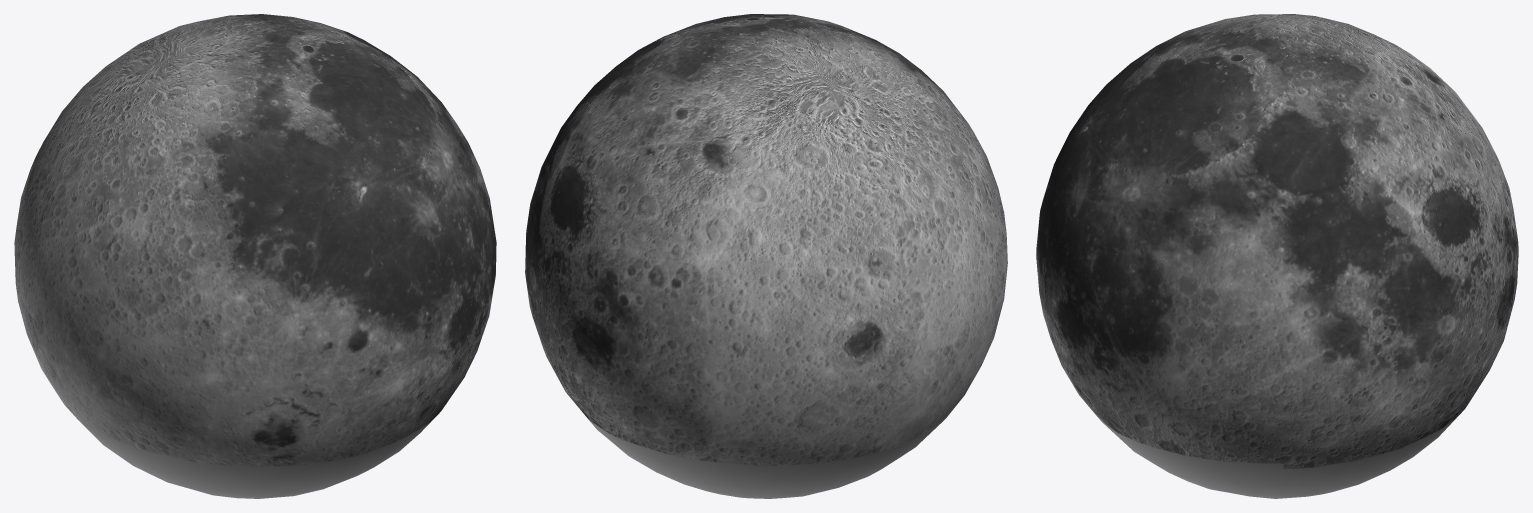
File: Moon.glb
3 views of the same model, side by side, from view 1: azimuth 30°, elevation 25°; view 2: azimuth 150°, elevation 25°; view 3: azimuth 270°, elevation 25° (orthographic).
Visible parts, largest first — view 1: Moon; view 2: Moon; view 3: Moon.
Part boxes in pixels (left/top/right/bottom): Moon: left=14, top=14, right=496, bottom=498; Moon: left=525, top=14, right=1007, bottom=498; Moon: left=1036, top=14, right=1518, bottom=498.
Size of the model in its own units: 1.97 by 2 by 1.98.
Materials: 1 (1 with a texture image).
